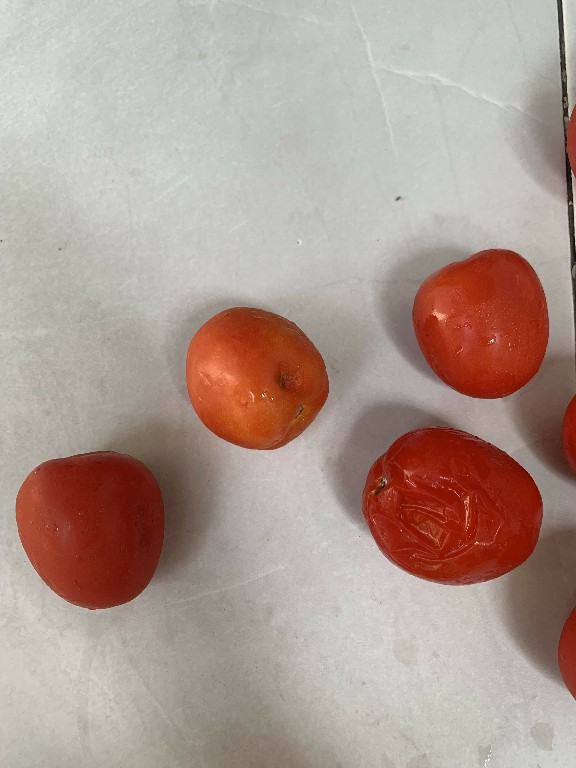NG: (360, 417, 552, 599), (186, 300, 329, 468)
OK: (7, 442, 170, 628), (406, 244, 556, 404)
